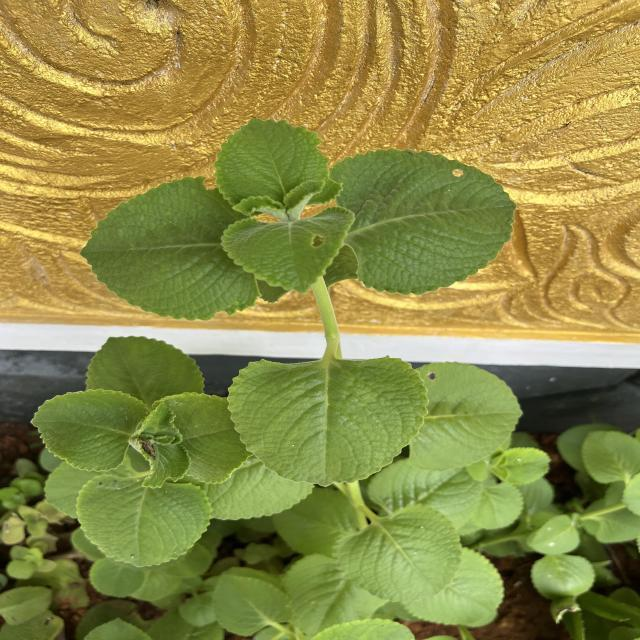Plectranthus barbatus: (328, 148, 518, 297), (225, 355, 430, 488), (78, 175, 262, 322), (332, 502, 464, 604), (410, 360, 526, 472), (74, 476, 214, 568), (212, 116, 346, 210), (220, 204, 358, 295), (29, 388, 150, 472), (83, 336, 209, 398), (211, 572, 295, 637), (580, 429, 640, 484)
